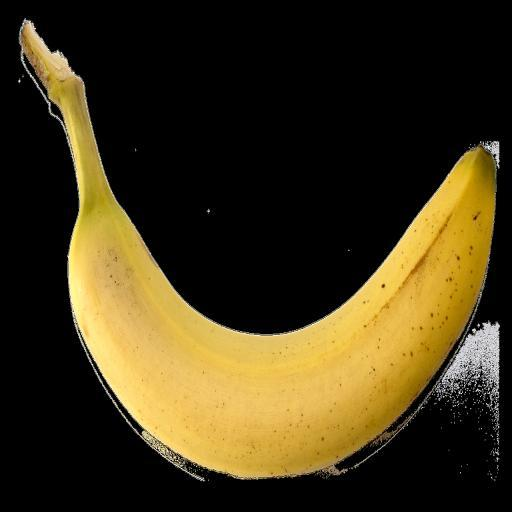banana: (21, 24, 495, 476)
